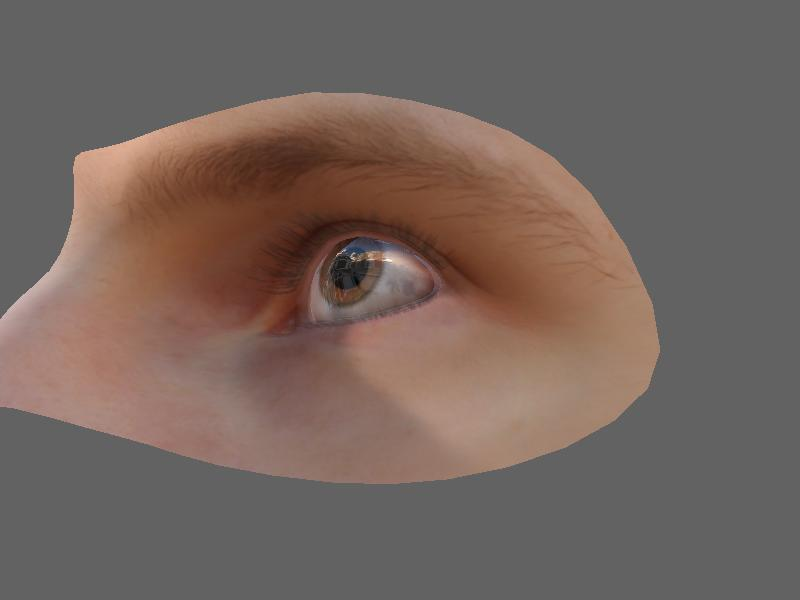iris: (308, 242, 390, 307)
